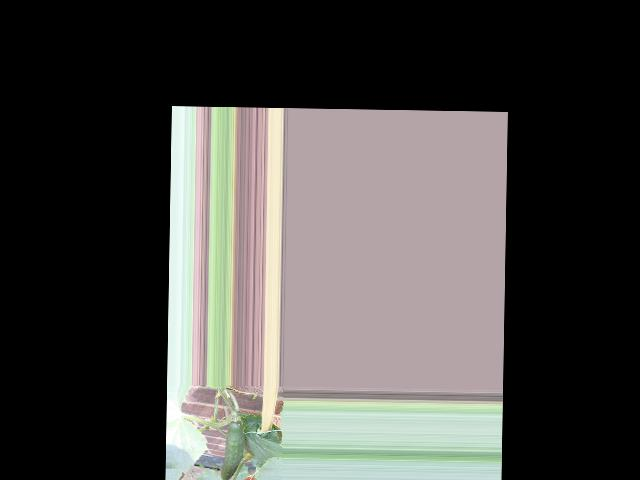cucumber: (219, 420, 244, 480)
